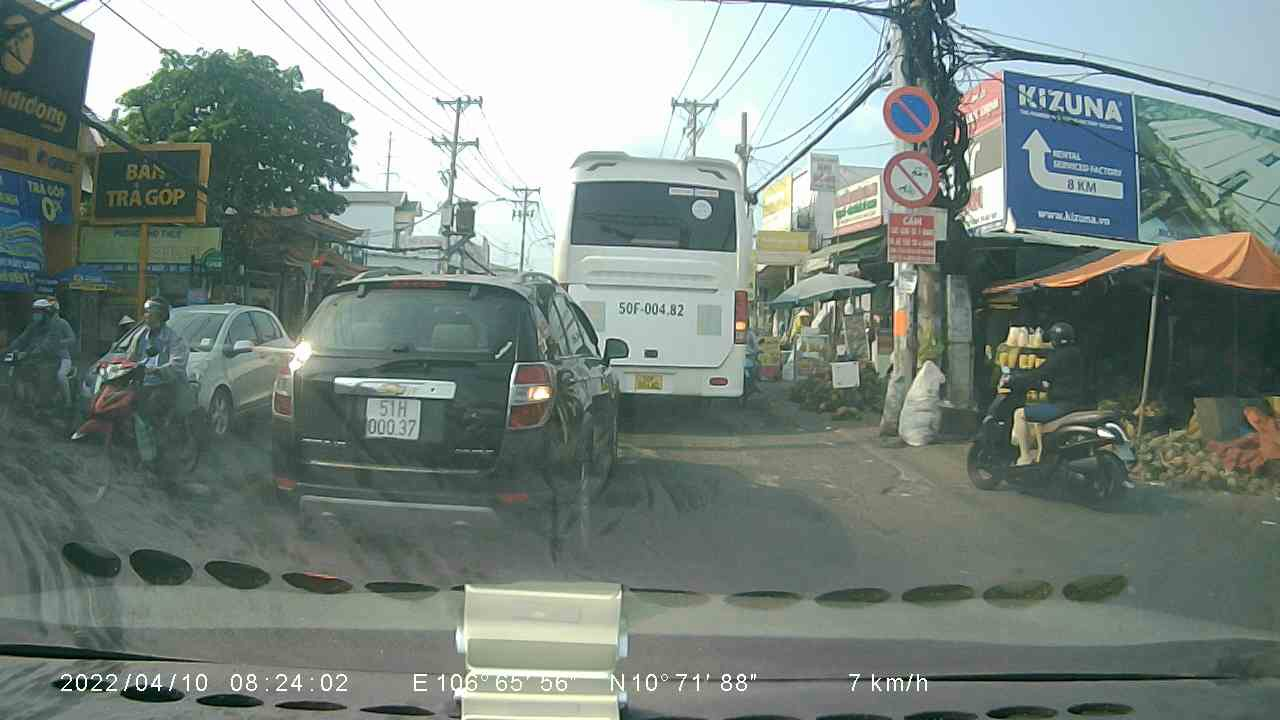Bien khac: (880, 149, 943, 208)
Cam do xe: (879, 82, 944, 144)
